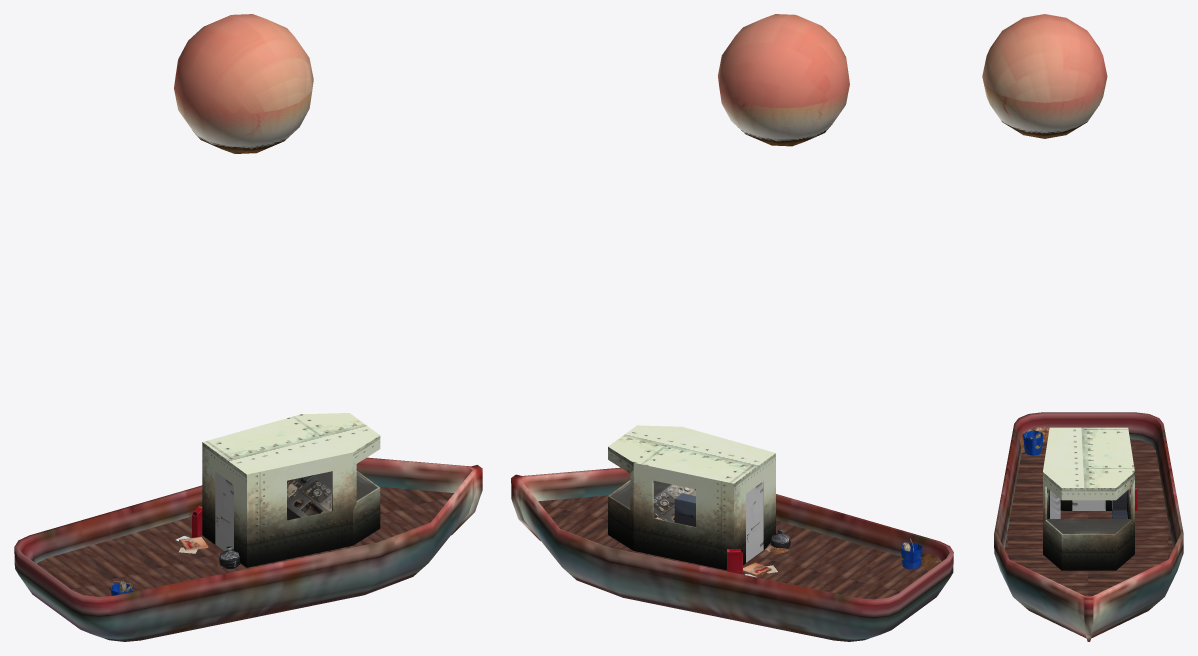
Rendered from Barco.glb.
The picture shows the model from 3 angles, left to right: view 1: azimuth 30°, elevation 25°; view 2: azimuth 150°, elevation 25°; view 3: azimuth 270°, elevation 25°; orthographic projection. The views are drawn at different scales.
Parts seen in each view (by area): view 1: Plane, Plane.001, Quadsphere, Console barco, Plane.004; view 2: Plane, Plane.001, Quadsphere, Console barco, Plane.004, Plane.005; view 3: Plane, Quadsphere, Plane.001, Console barco, Circle.002, Plane.004, Plane.005.
Part boxes in pixels (x1,y1,x2,y2): Plane: (14, 457, 482, 641); Plane.001: (202, 413, 380, 567); Quadsphere: (174, 14, 313, 153); Console barco: (287, 471, 377, 520); Plane.004: (215, 471, 233, 551); Plane: (511, 467, 953, 641); Plane.001: (608, 425, 775, 570); Quadsphere: (718, 14, 849, 146); Console barco: (610, 480, 695, 522); Plane.004: (746, 481, 763, 562); Plane.005: (674, 493, 695, 526); Plane: (994, 412, 1183, 641); Quadsphere: (982, 14, 1107, 138); Plane.001: (1043, 427, 1134, 570); Console barco: (1047, 519, 1130, 533); Circle.002: (1023, 427, 1043, 455); Plane.004: (1072, 500, 1105, 510); Plane.005: (1112, 491, 1126, 518).
Bounding box in the file's own units: 7.36 × 9.52 × 3.33.
Materials: 17 (17 with a texture image).
